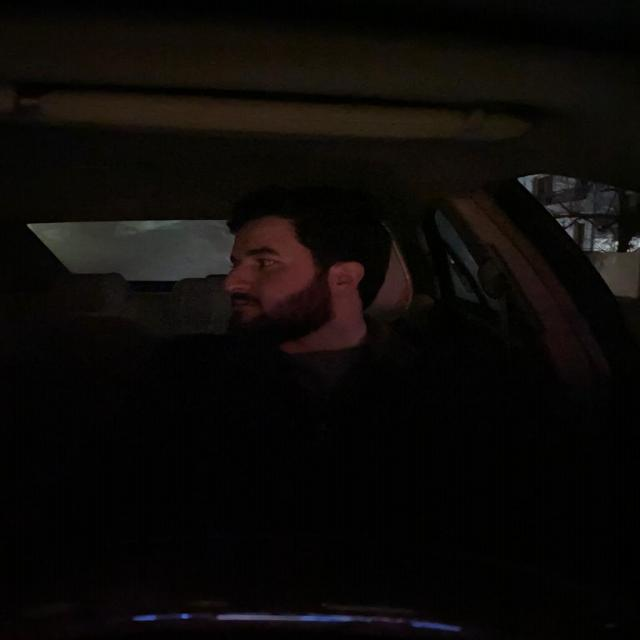LeftRight: (198, 210, 378, 350)
